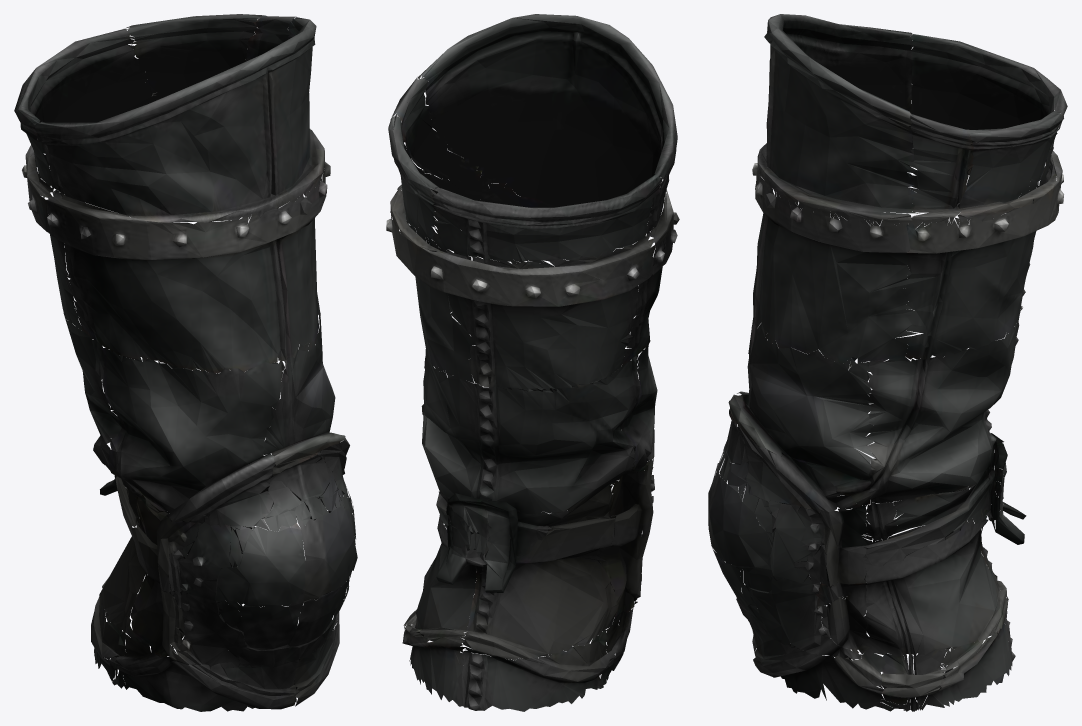
Rendered from a_black_greaves_R.glb.
The picture shows the model from 3 angles, left to right: view 1: azimuth 30°, elevation 25°; view 2: azimuth 150°, elevation 25°; view 3: azimuth 270°, elevation 25°; orthographic projection. The views are drawn at different scales.
Visible parts, largest first — view 1: geometry_0.002; view 2: geometry_0.002; view 3: geometry_0.002.
Part boxes in pixels (x1,y1,x2,y2): geometry_0.002: (14,14,357,711); geometry_0.002: (386,14,679,711); geometry_0.002: (708,14,1067,711).
Bounding box in the file's own units: 0.14 × 0.3199 × 0.164.
1 material, 1 textured.
